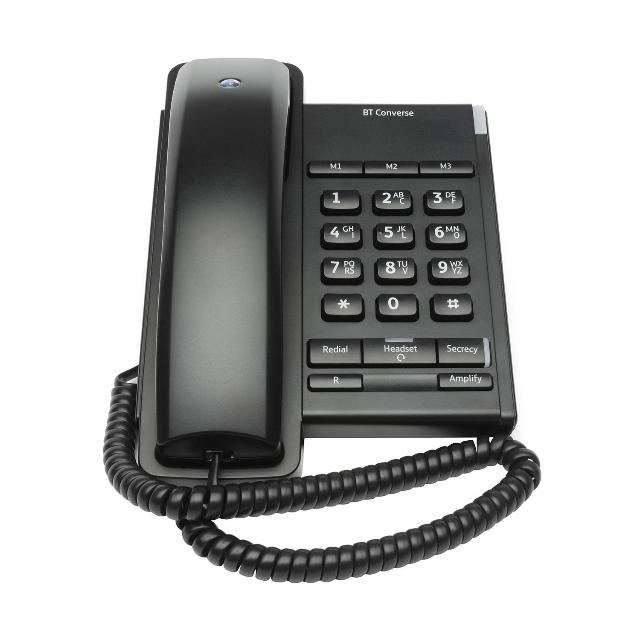Telephone-Set: (94, 34, 568, 592)
